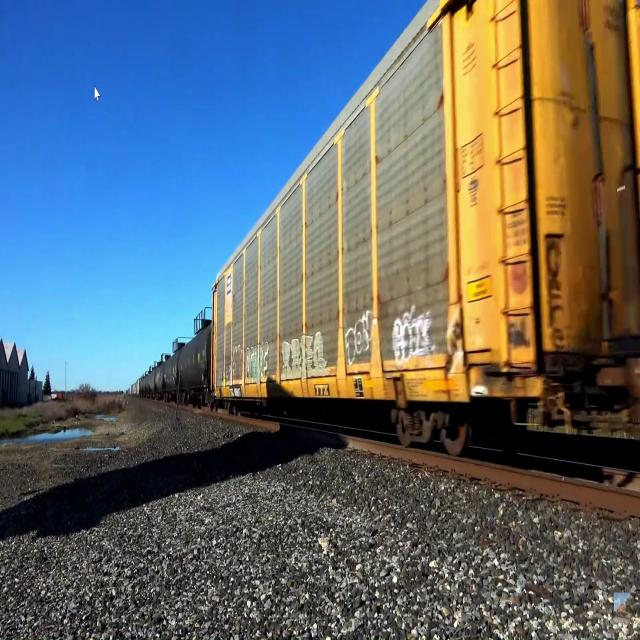autorack: (210, 0, 640, 465)
tank: (178, 315, 212, 407), (163, 346, 179, 406)
